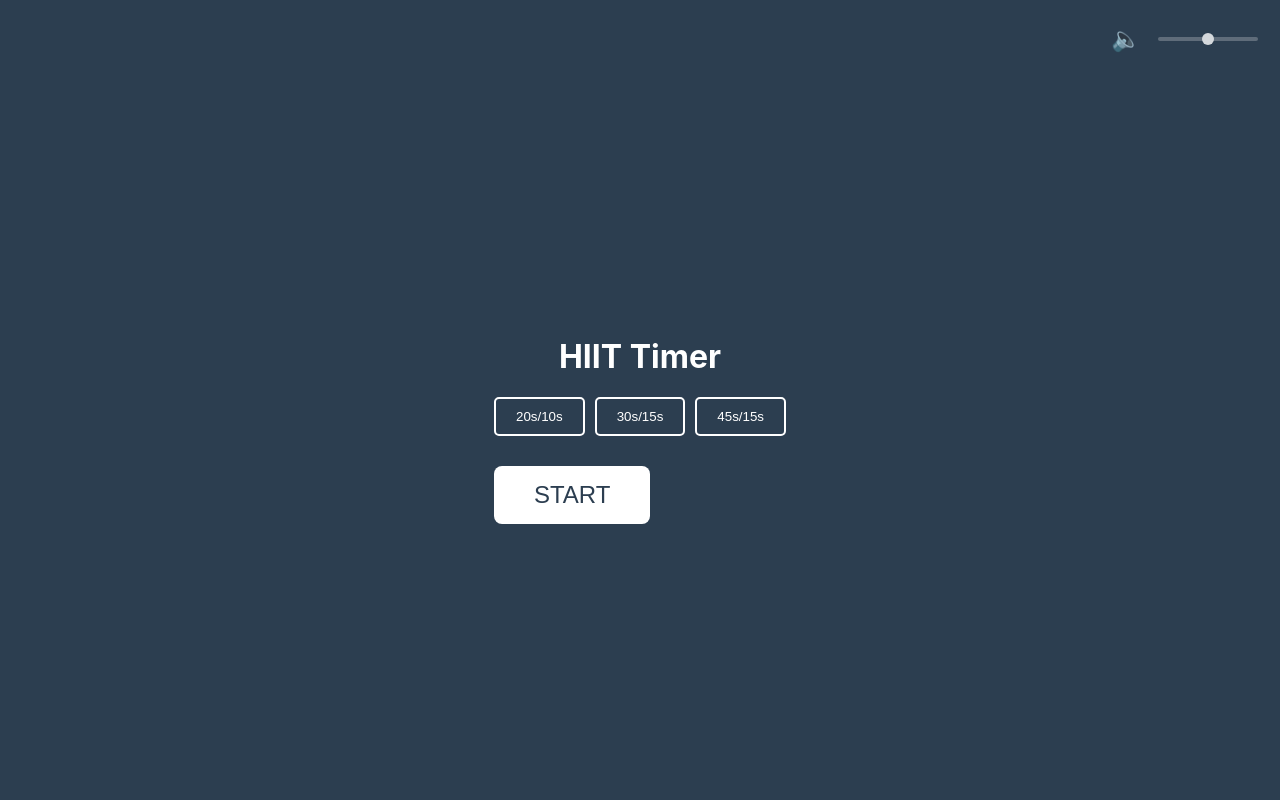
Test: App Component › switches from workout to rest
The image size is (1280, 800).
Click the button "START": [572, 495] box [494,466,650,524]
Wait 21000 ms
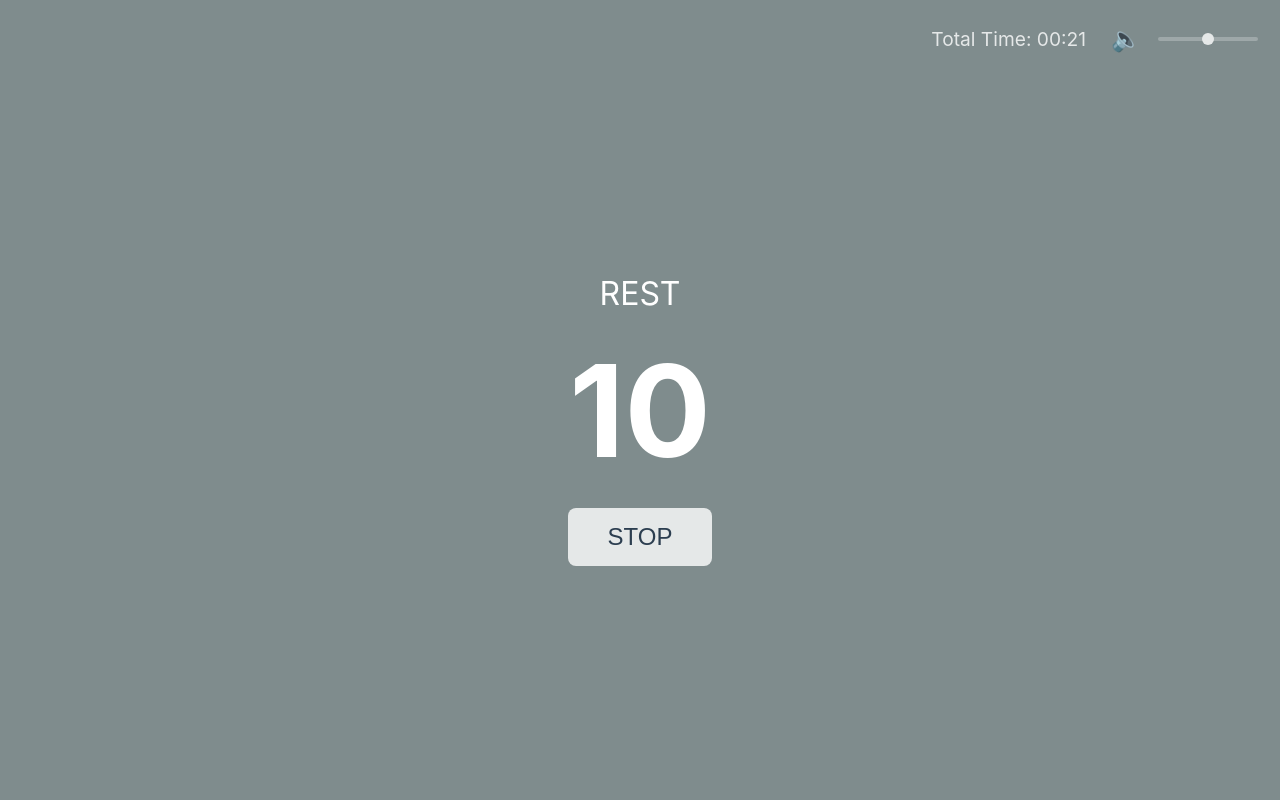
Expected: the text "10" is shown, [569,333,711,488]
Result: the text "REST" is shown at [600,274,680,313]
